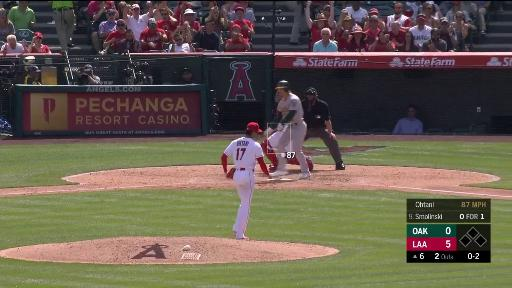pitcher: (221, 123, 274, 243)
